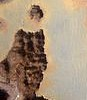Corrosion: (1, 28, 49, 100), (28, 4, 44, 22)
